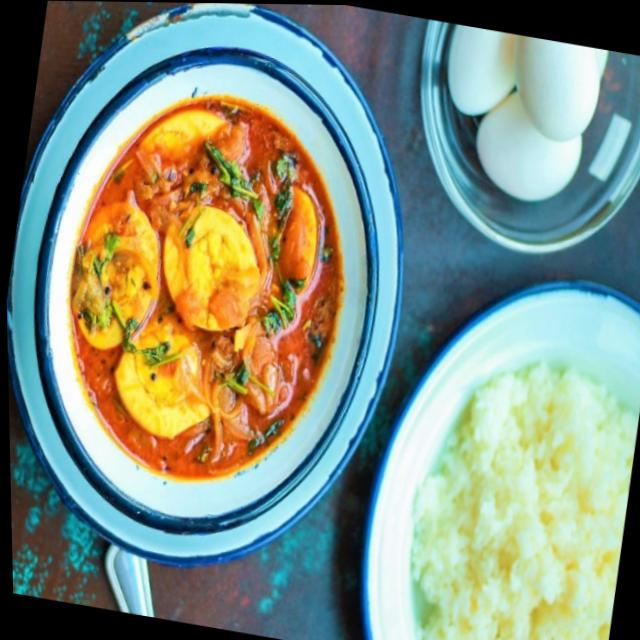EGG: (446, 25, 608, 202)
RICE: (393, 335, 640, 640)
